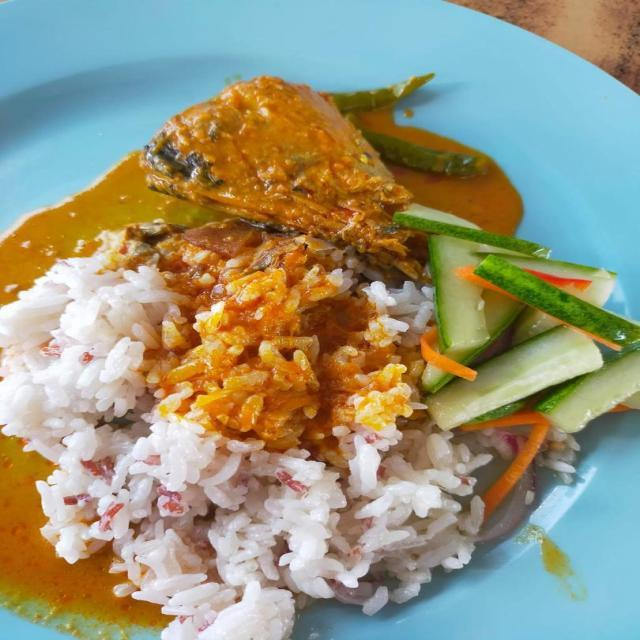Fish: (143, 76, 432, 284)
Plate: (0, 0, 639, 318)
Rice: (0, 212, 501, 638)
Vegetables: (314, 59, 639, 536)
